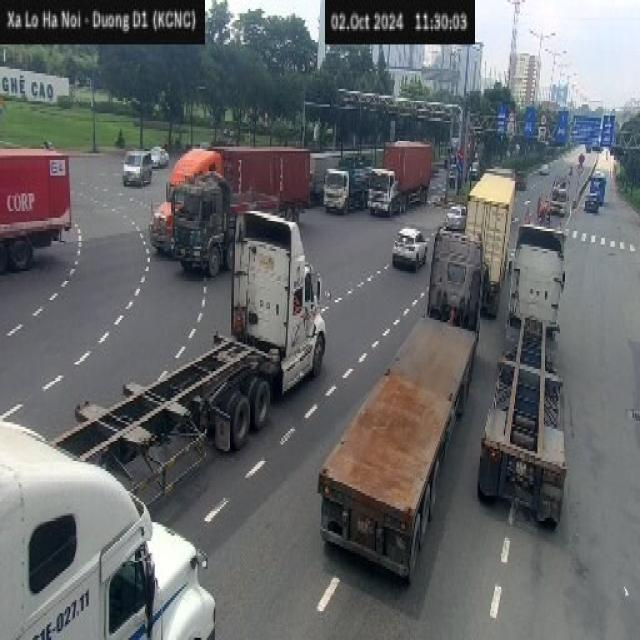bus: (308, 152, 330, 203), (592, 171, 606, 208)
car: (393, 220, 429, 272), (120, 144, 154, 190), (550, 182, 573, 215), (446, 199, 468, 232), (148, 142, 170, 170), (585, 194, 600, 216), (538, 163, 552, 177)
container-truck: (48, 207, 330, 517), (317, 226, 487, 596), (0, 418, 218, 640), (479, 224, 567, 531), (151, 146, 313, 213), (0, 149, 72, 274), (170, 174, 243, 269), (367, 136, 431, 220), (320, 154, 375, 214)
truck: (468, 167, 513, 309)
